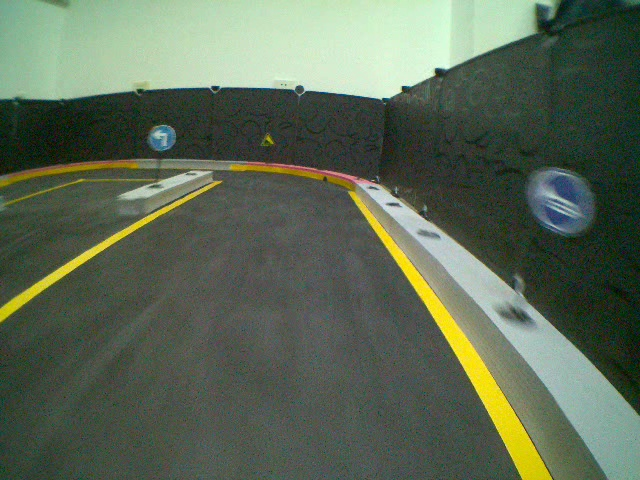fast: (259, 132, 276, 149)
horn: (524, 166, 598, 236)
turn: (148, 124, 173, 152)
